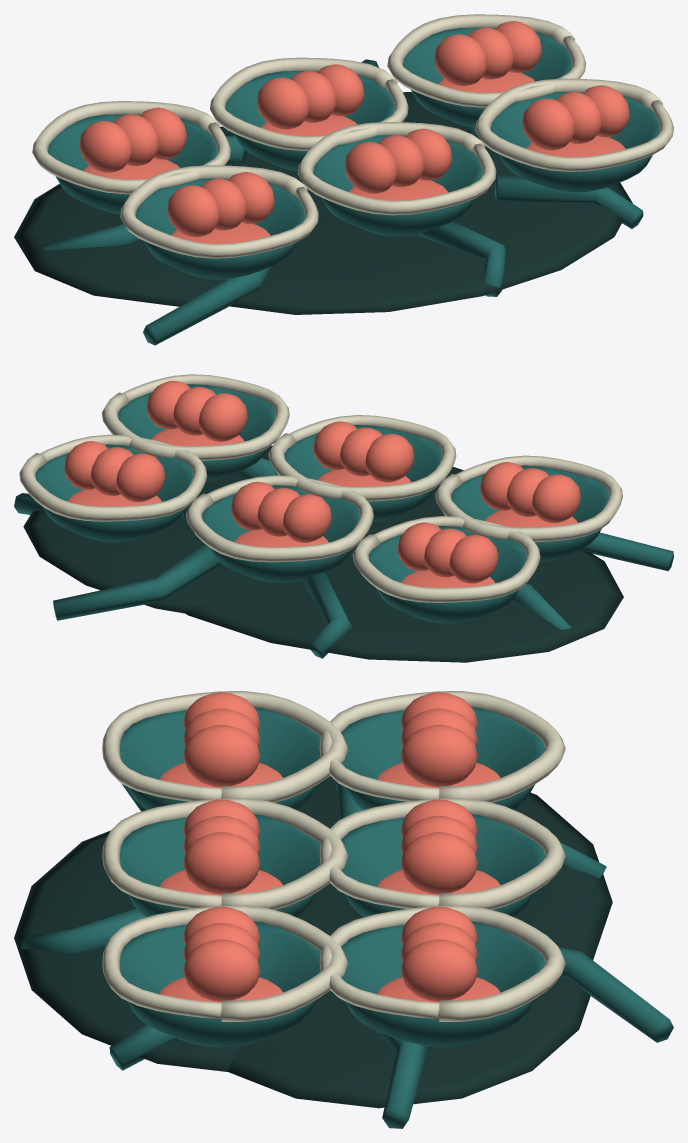
Rendered from building_pigment_bed_a.obj.
3 renders of one model, top to bottom at view 1: azimuth 30°, elevation 25°; view 2: azimuth 150°, elevation 25°; view 3: azimuth 270°, elevation 25°, orthographic. The views are drawn at different scales.
Parts seen in each view (by area): view 1: irregular_anchoring_lobe.089, irregular_anchoring_lobe.087, grown_cup_lip.087, grown_cup_lip.088, grown_cup_lip.089, open_living_cup.087, open_living_cup.088, open_living_cup.089, grown_cup_lip.090, grown_cup_lip.092, grown_cup_lip.091, open_living_cup.090 (+31 smaller); view 2: irregular_anchoring_lobe.087, irregular_anchoring_lobe.088, grown_cup_lip.088, grown_cup_lip.087, grown_cup_lip.089, grown_cup_lip.090, grown_cup_lip.092, grown_cup_lip.091, open_living_cup.092, open_living_cup.090, open_living_cup.091, anchoring_root.204 (+33 smaller); view 3: irregular_anchoring_lobe.088, irregular_anchoring_lobe.089, open_living_cup.089, open_living_cup.092, irregular_anchoring_lobe.087, grown_cup_lip.089, grown_cup_lip.092, grown_cup_lip.087, grown_cup_lip.088, grown_cup_lip.090, grown_cup_lip.091, open_living_cup.088 (+32 smaller).
Boxes of the visible parts, x1,y1,x2,y2 form: irregular_anchoring_lobe.089: (229, 179, 632, 314); irregular_anchoring_lobe.087: (14, 126, 328, 306); grown_cup_lip.087: (120, 165, 318, 258); grown_cup_lip.088: (297, 122, 496, 215); grown_cup_lip.089: (475, 78, 673, 171); open_living_cup.087: (135, 178, 305, 279); open_living_cup.088: (313, 135, 482, 236); open_living_cup.089: (491, 92, 660, 192); grown_cup_lip.090: (32, 101, 230, 194); grown_cup_lip.092: (387, 14, 585, 107); grown_cup_lip.091: (210, 57, 408, 150); open_living_cup.090: (48, 114, 217, 214); irregular_anchoring_lobe.087: (185, 535, 623, 662); irregular_anchoring_lobe.088: (23, 485, 256, 613); grown_cup_lip.088: (268, 415, 456, 501); grown_cup_lip.087: (435, 455, 622, 542); grown_cup_lip.089: (102, 374, 289, 460); grown_cup_lip.090: (352, 516, 540, 602); grown_cup_lip.092: (19, 434, 207, 521); grown_cup_lip.091: (186, 475, 373, 562); open_living_cup.092: (35, 444, 193, 542); open_living_cup.090: (368, 526, 526, 623); open_living_cup.091: (202, 485, 359, 582); anchoring_root.204: (53, 544, 220, 620); irregular_anchoring_lobe.088: (228, 932, 590, 1108); irregular_anchoring_lobe.089: (14, 830, 317, 1071); open_living_cup.089: (120, 921, 320, 1047); open_living_cup.092: (341, 921, 545, 1047); irregular_anchoring_lobe.087: (297, 776, 612, 959); grown_cup_lip.089: (102, 905, 348, 1021); grown_cup_lip.092: (319, 905, 565, 1021); grown_cup_lip.087: (102, 691, 348, 802); grown_cup_lip.088: (102, 798, 348, 909); grown_cup_lip.090: (319, 691, 565, 802); grown_cup_lip.091: (319, 798, 565, 909); open_living_cup.088: (120, 814, 320, 916).
Bounding box in the file's own units: 3.59 × 0.63 × 2.73.
